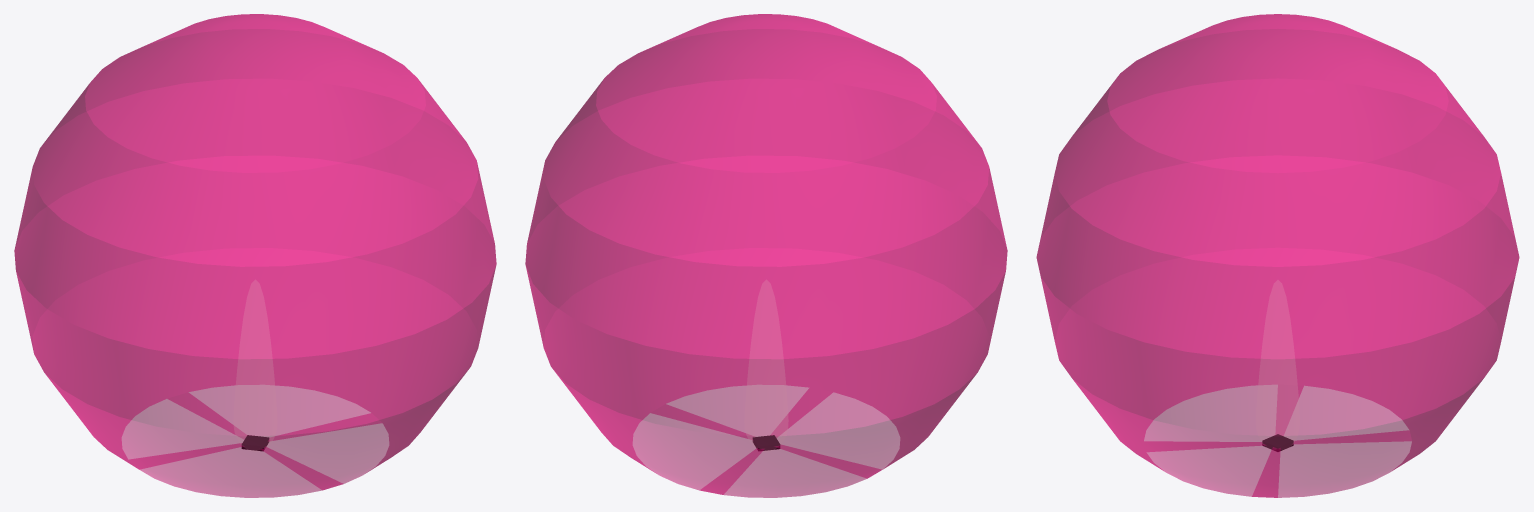
Rendered from pink_lantern_sky_lantern.glb.
3 views of the same model, side by side, from view 1: azimuth 30°, elevation 25°; view 2: azimuth 150°, elevation 25°; view 3: azimuth 270°, elevation 25° (orthographic).
Parts seen in each view (by area): view 1: Pink Lantern_0; view 2: Pink Lantern_0; view 3: Pink Lantern_0.
Boxes of the visible parts, box(x1,y1,x2,y2) form: Pink Lantern_0: box(14, 14, 496, 497); Pink Lantern_0: box(525, 14, 1007, 497); Pink Lantern_0: box(1036, 14, 1519, 497).
Size of the model in its own units: 3.25 by 3.07 by 3.25.
